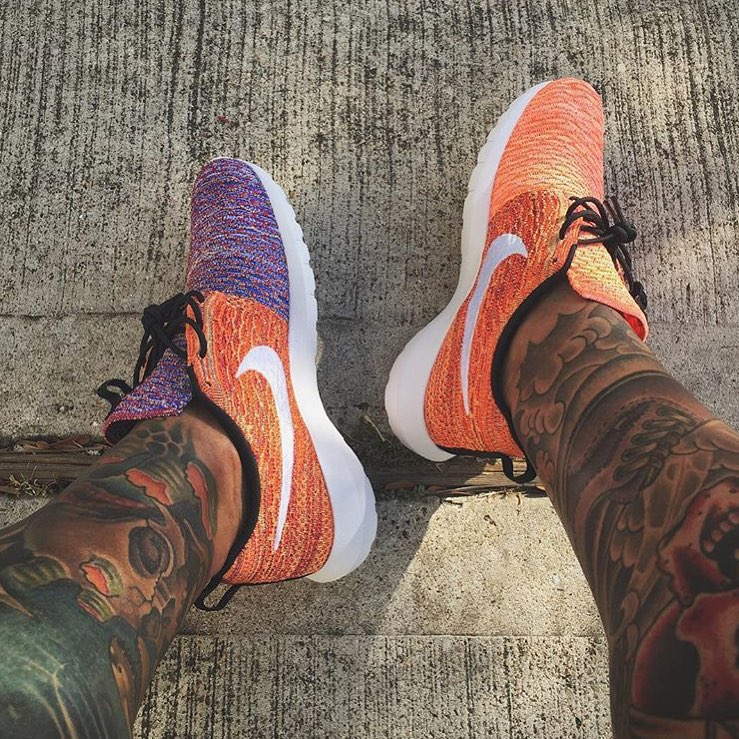sneaker: (82, 136, 405, 608), (359, 56, 688, 485)
